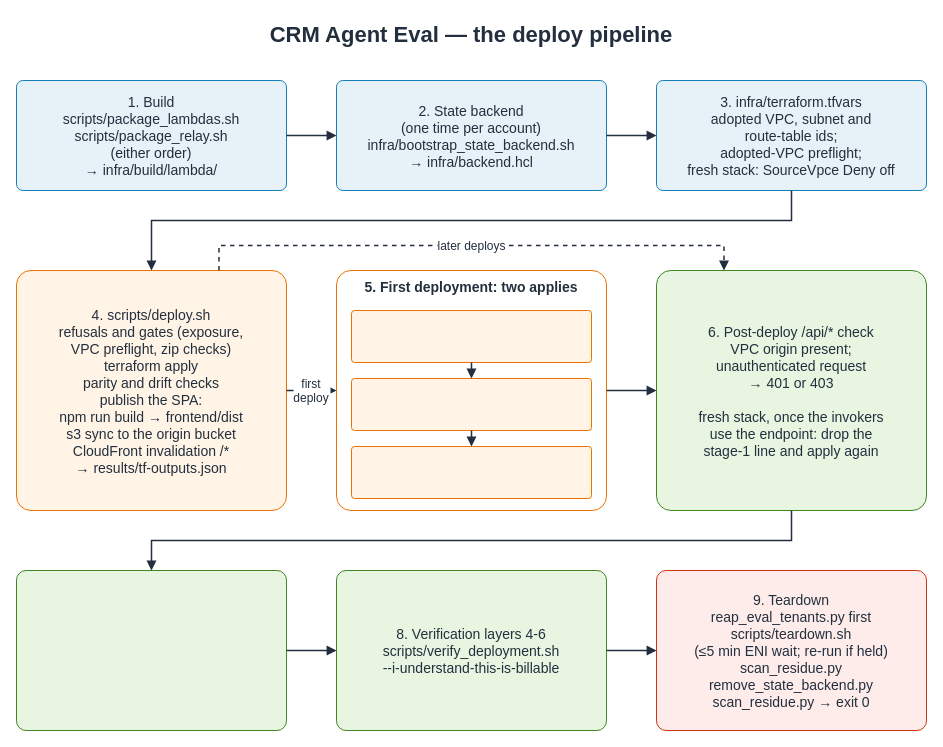
The diagram is 943 pixels wide and 747 high, and some of its shapes have lost their labels. The shapes that lost their labels are listed below. From the top down, each one's centre as x and y in pixels, then its label:
At (471,336): "Apply 1: deploy.sh with a placeholder security group".
At (471,404): "read the id of CloudFront-VPCOrigins-Service-SG".
At (471,472): "Apply 2: deploy.sh with that id; /api/* now reachable".
At (151,650): "7. Bring up the UI seed_demo_tenant.py provision_demo_user.py sign in".
